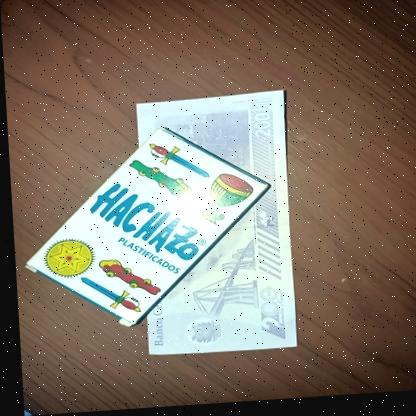two_hundred-back-vef: (132, 94, 294, 357)
